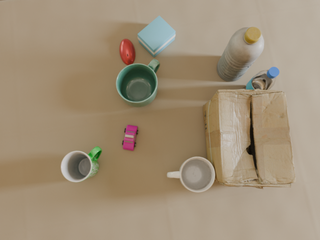bottle: (217, 27, 264, 81), (243, 67, 279, 90)
box: (203, 89, 296, 189), (138, 16, 175, 57)
cup: (116, 59, 160, 107), (167, 157, 216, 192), (61, 146, 102, 182)
mouse: (120, 39, 135, 65)
toy_car: (122, 125, 138, 151)
